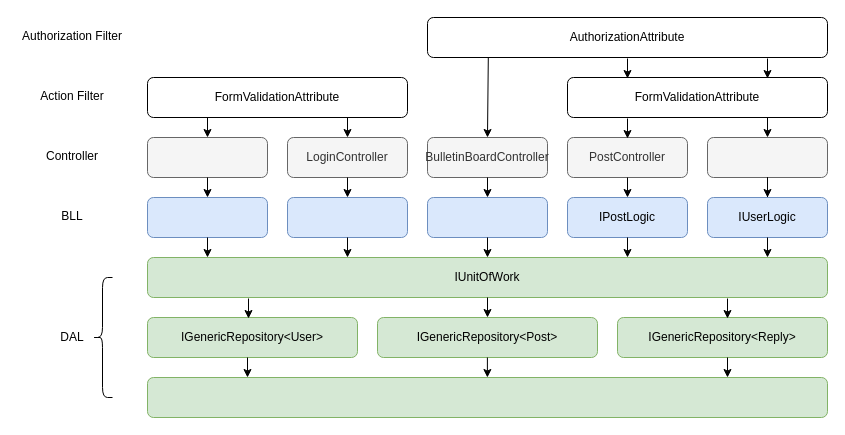
Image size: 845x435. Some labels were removed from this diagram. The centre of each missing label's shape, as x and y in pixels:
DbContext: the point at 487,397
IBulletinBoardLogic: the point at 487,217
ILoginLogic: the point at 347,217
IRegisterLogic: the point at 207,217
RegisterController: the point at 207,157
UserController: the point at 767,157
